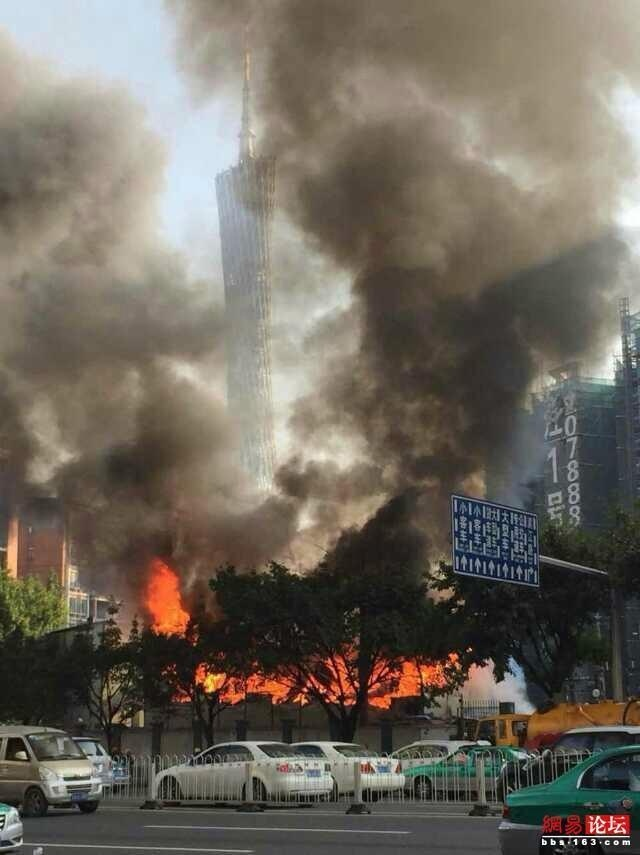fire: (178, 641, 478, 705), (144, 560, 190, 634)
